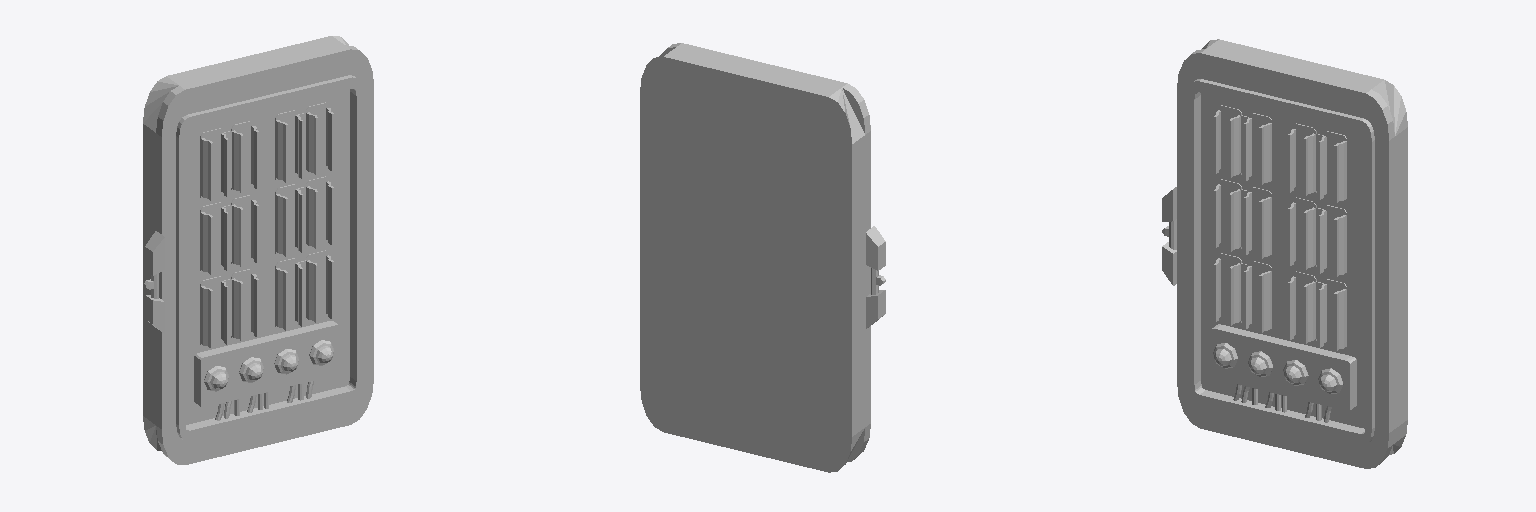
The model's file is BoiteFusibles.obj.
3 views of the same model, side by side, from view 1: azimuth 30°, elevation 25°; view 2: azimuth 150°, elevation 25°; view 3: azimuth 330°, elevation 25° (orthographic).
Parts seen in each view (by area): view 1: Boitier, Accroche, Lights; view 2: Boitier; view 3: Boitier, Accroche, Lights.
Boxes of the visible parts, <box> form: Boitier: <box>143,36,373,464</box>; Accroche: <box>200,102,333,348</box>; Lights: <box>204,340,333,391</box>; Boitier: <box>640,43,885,472</box>; Boitier: <box>1162,39,1407,468</box>; Accroche: <box>1213,105,1346,351</box>; Lights: <box>1213,343,1343,393</box>.
Bounding box in the file's own units: 0.3347 × 0.5279 × 0.0734.